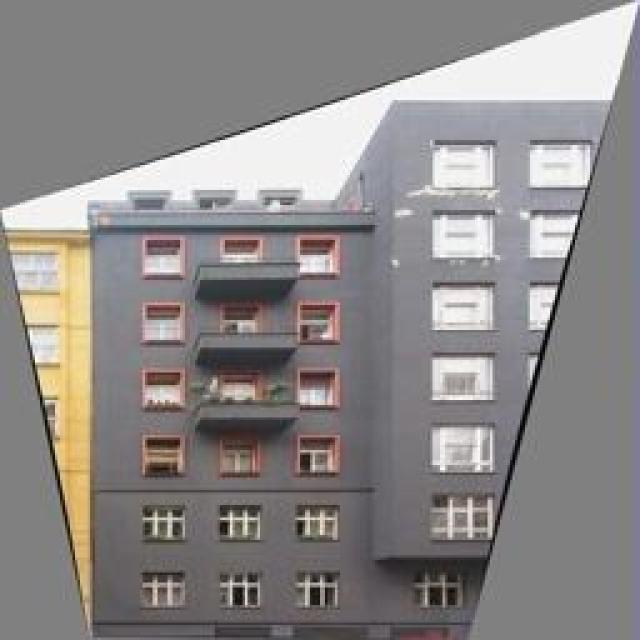building: (82, 102, 640, 630)
